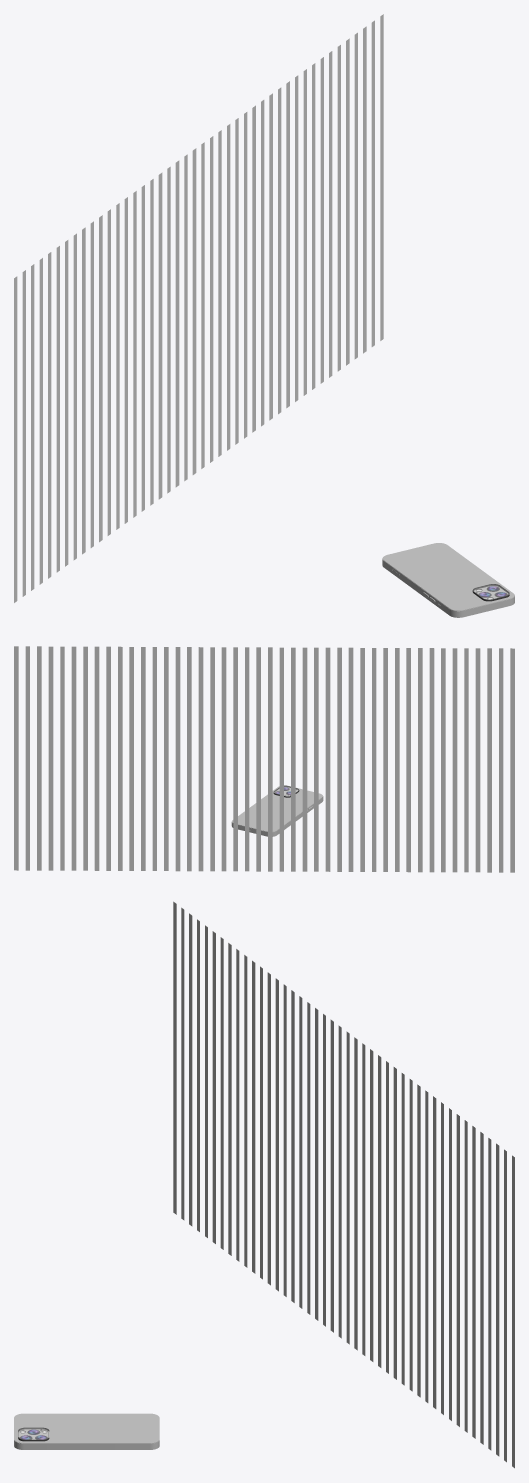
Rendered from uploads_files_3983923_iPhone_12_pro_max+.gltf.
3 renders of one model, top to bottom at view 1: azimuth 30°, elevation 25°; view 2: azimuth 150°, elevation 25°; view 3: azimuth 270°, elevation 25°, orthographic. The views are drawn at different scales.
Visible parts, largest first — view 1: Plane.003, Phone; view 2: Plane.003, Phone; view 3: Plane.003, Phone.
Boxes of the visible parts, x1,y1,x2,y2 form: Plane.003: [14, 14, 383, 602]; Phone: [382, 543, 514, 617]; Plane.003: [14, 646, 514, 872]; Phone: [231, 785, 323, 836]; Plane.003: [173, 901, 514, 1468]; Phone: [14, 1413, 159, 1449].
Size of what is drawn, in the model's own units: 10.32 by 6.62 by 8.54.
